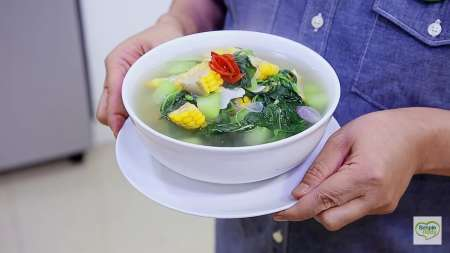Sayur Bayam: (164, 39, 330, 167)
